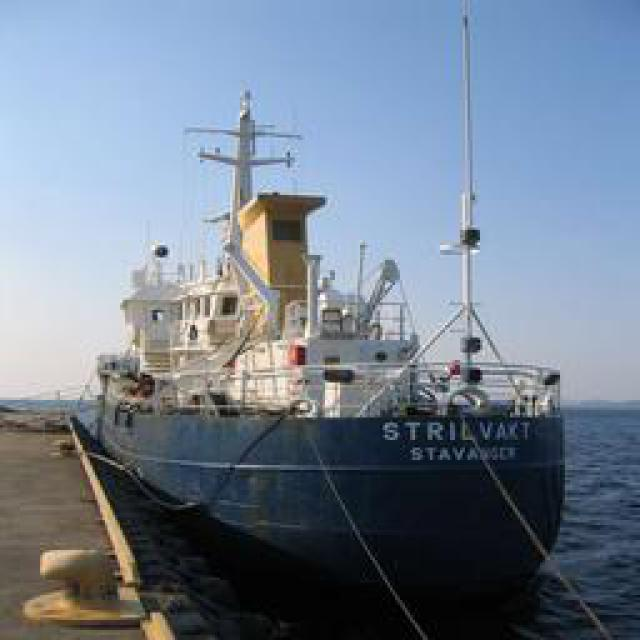Ship: (66, 35, 584, 630)
